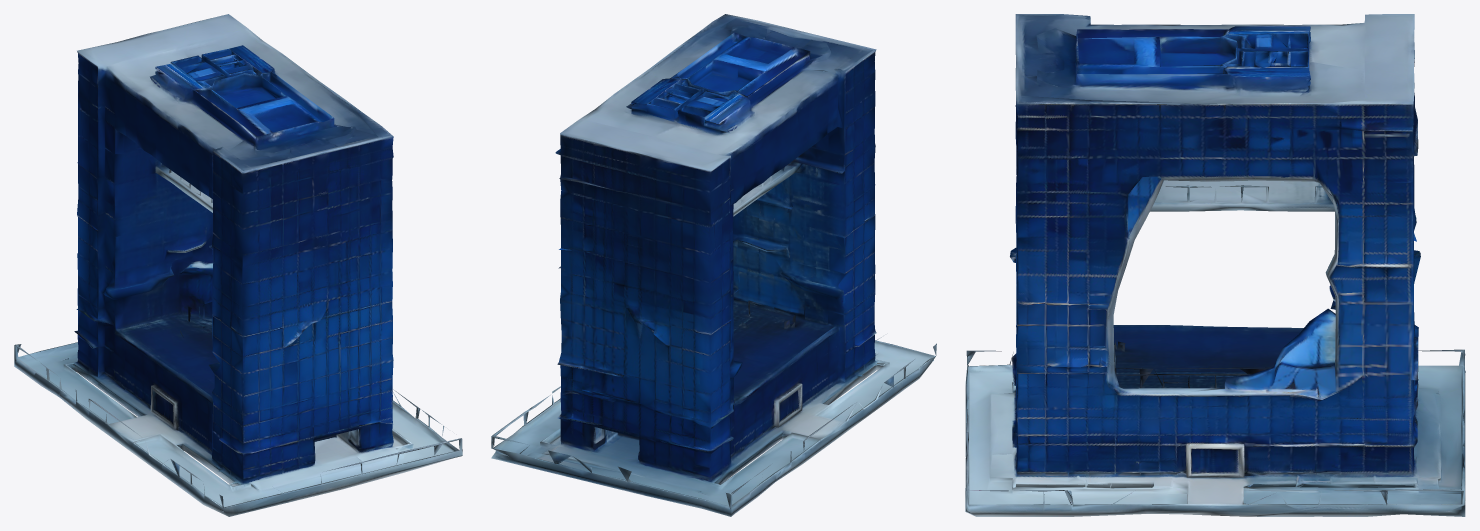
File: opus.glb
3 renders of one model, left to right at view 1: azimuth 30°, elevation 25°; view 2: azimuth 150°, elevation 25°; view 3: azimuth 270°, elevation 25°, orthographic. The views are drawn at different scales.
Visible parts, largest first — view 1: tripo_node_6a4c0dd5-d1d6-486b-a5d3-92010ed429a9; view 2: tripo_node_6a4c0dd5-d1d6-486b-a5d3-92010ed429a9; view 3: tripo_node_6a4c0dd5-d1d6-486b-a5d3-92010ed429a9.
Part boxes in pixels (left/top/right/bottom): tripo_node_6a4c0dd5-d1d6-486b-a5d3-92010ed429a9: left=14, top=14, right=462, bottom=516; tripo_node_6a4c0dd5-d1d6-486b-a5d3-92010ed429a9: left=491, top=14, right=936, bottom=516; tripo_node_6a4c0dd5-d1d6-486b-a5d3-92010ed429a9: left=965, top=14, right=1465, bottom=516.
Size of the model in its own units: 0.6686 by 0.8951 by 1.
Materials: 1 (1 with a texture image).
